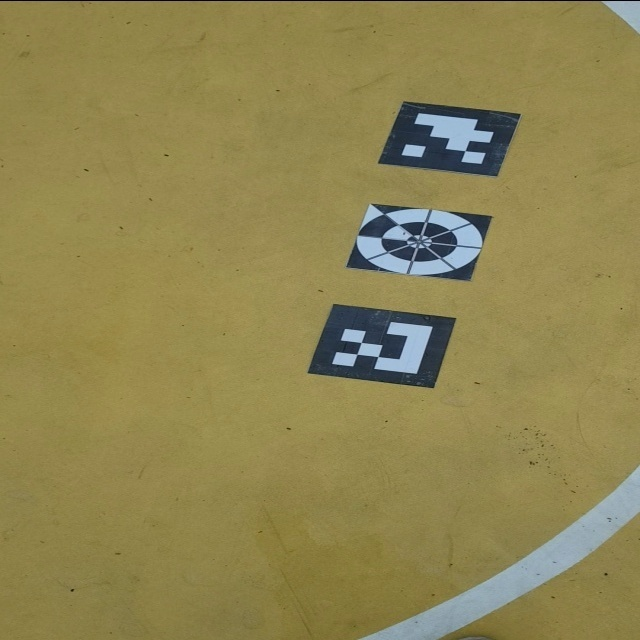landing-zone: (343, 202, 492, 283)
